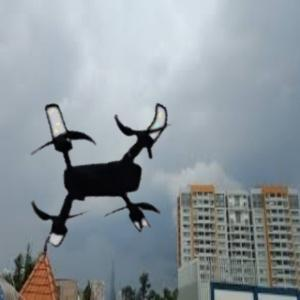drone: (7, 73, 189, 255)
